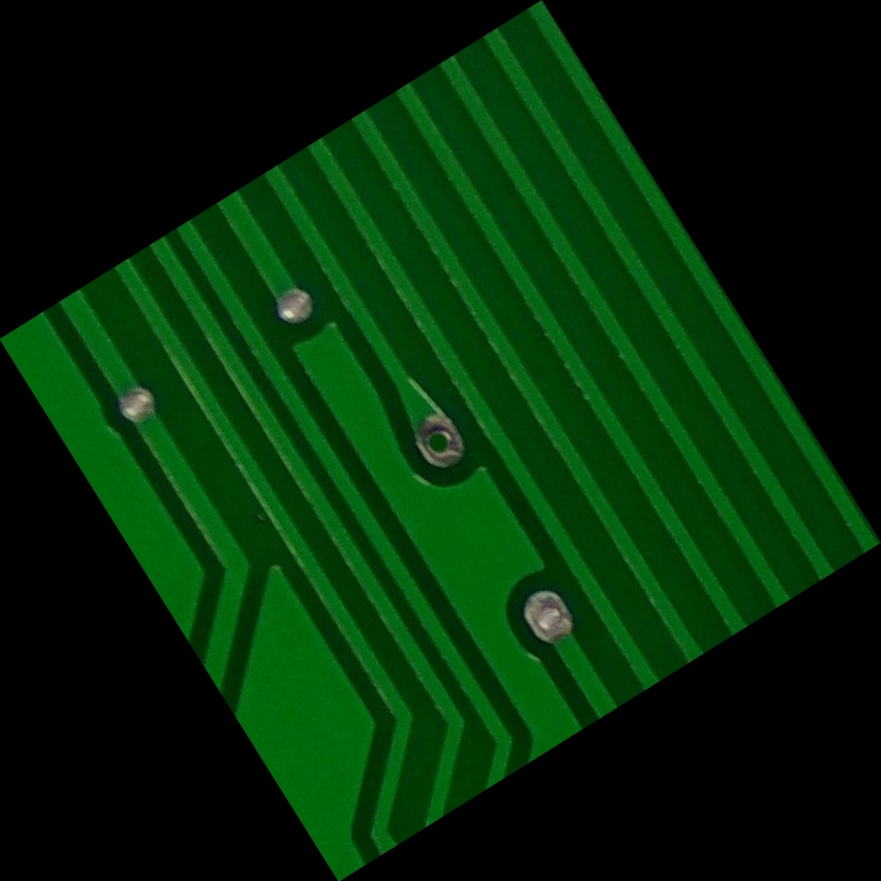missing_hole: (398, 396, 484, 484)
